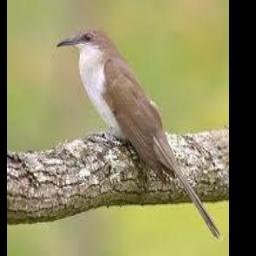Cuckoo: (56, 25, 223, 241)
